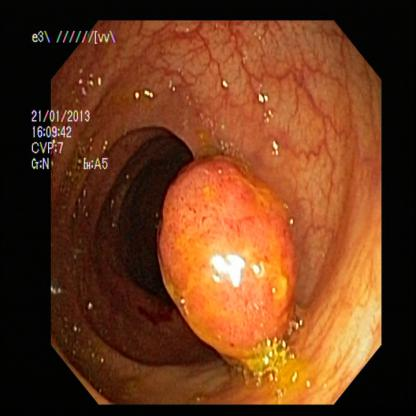Labels: (24, 96, 113, 186), (25, 12, 123, 66)
Polyps: (148, 160, 314, 360)
